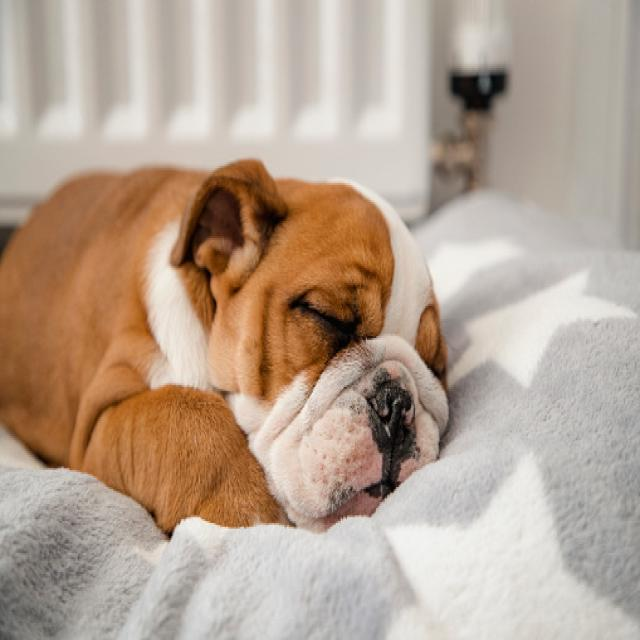bulldog: (153, 128, 474, 570)
